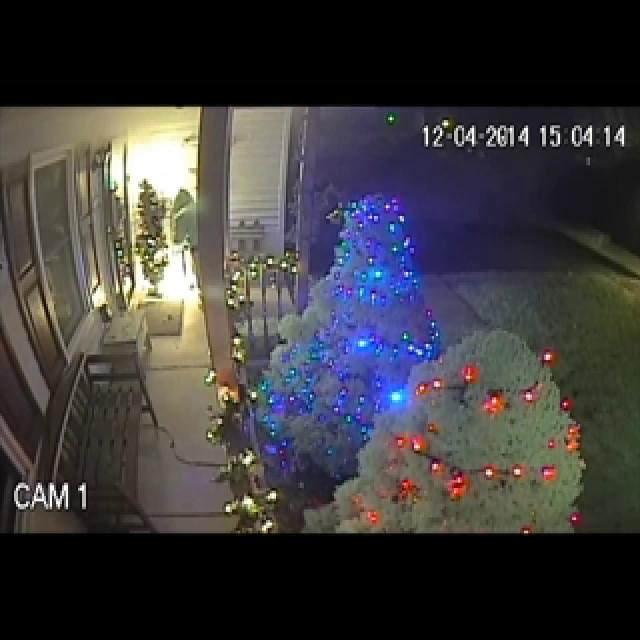arson: (93, 99, 310, 439)
